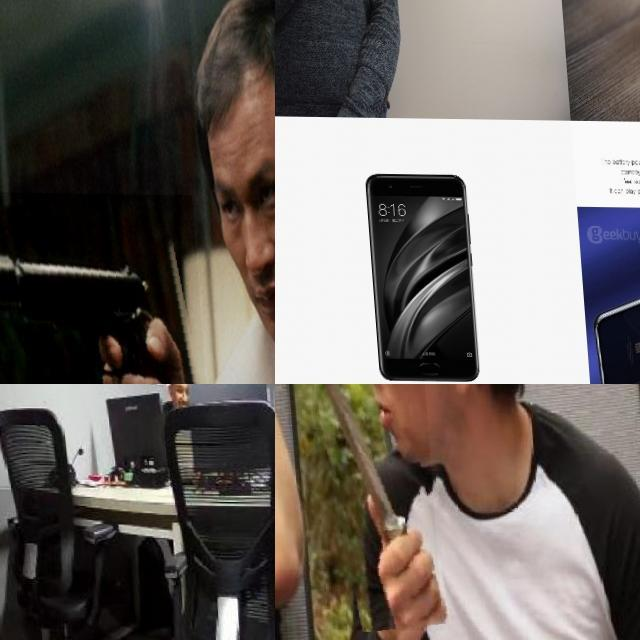-: (308, 384, 435, 629), (0, 547, 18, 640)
gun-knife-thesis - v11 Yolov5 augmented: (0, 191, 208, 384)
